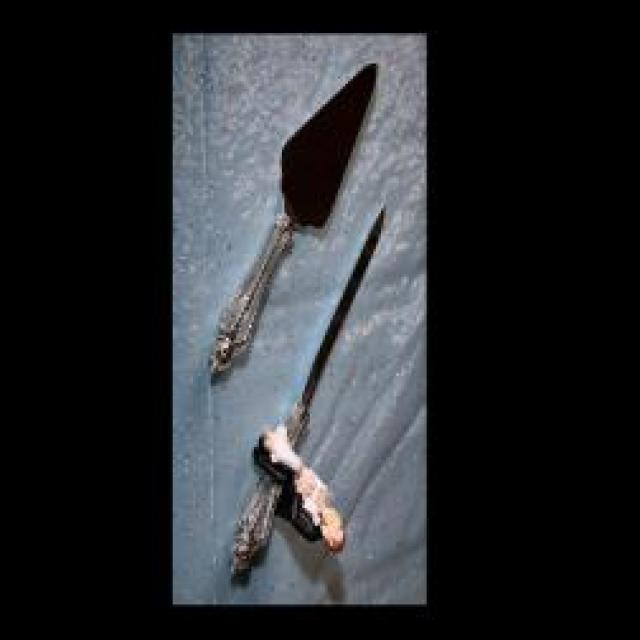knife: (230, 206, 386, 592), (207, 61, 378, 386)
